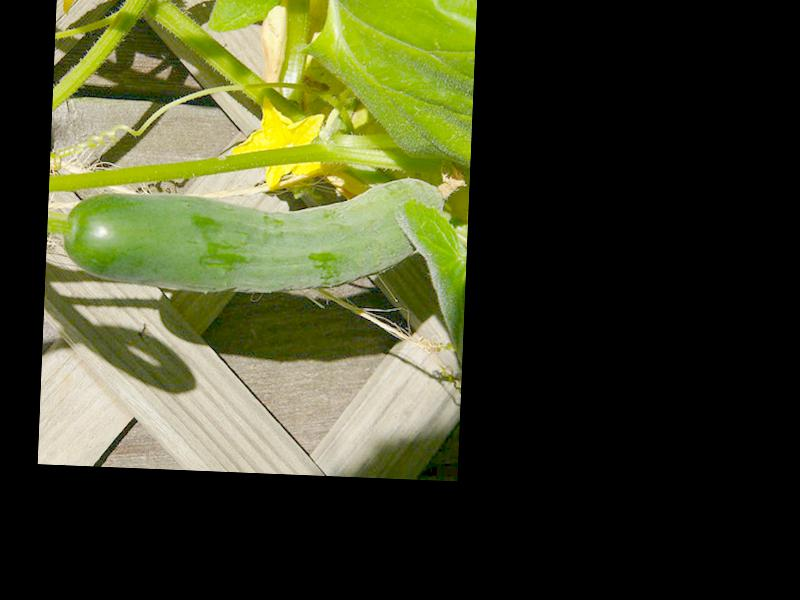Cucumber: (65, 164, 465, 303)
